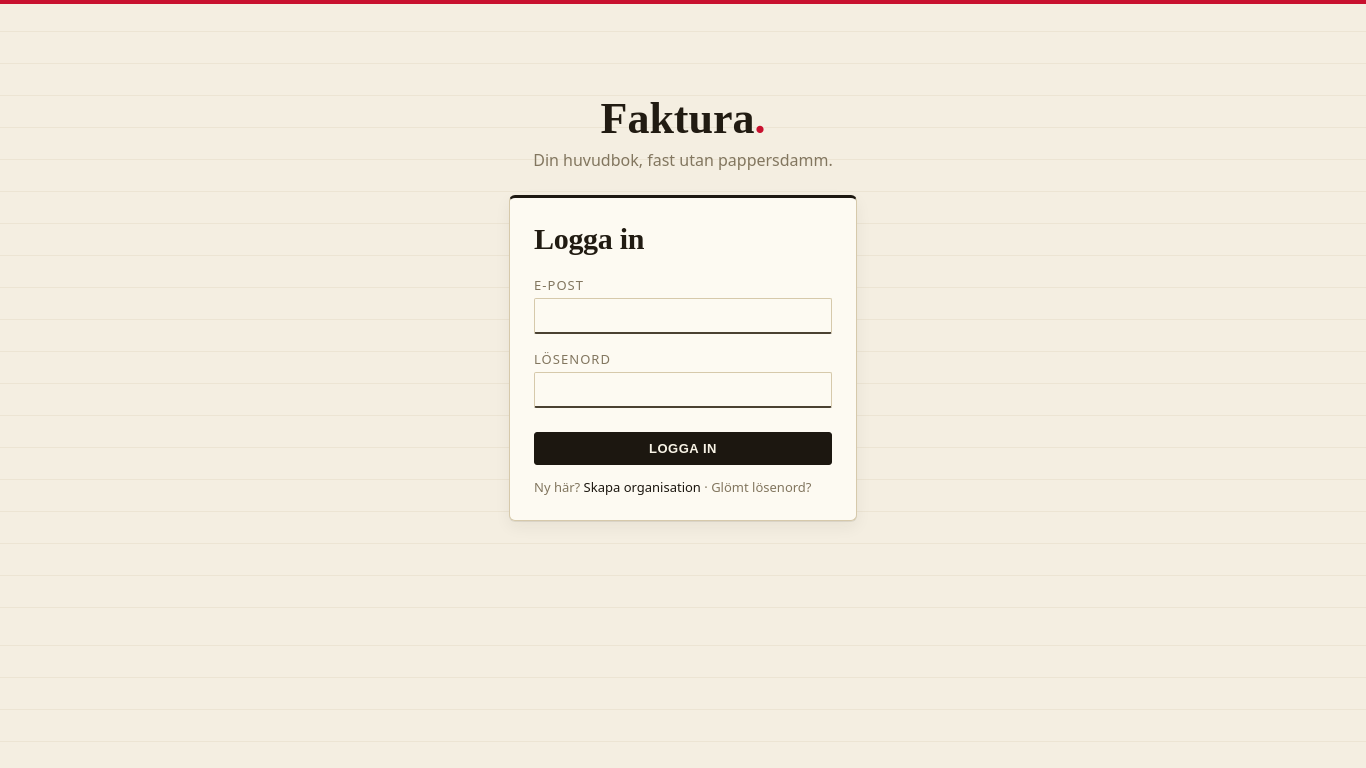
App auth-flöde › inloggning: formuläret loggar in och visar organisationens dashboard
Expected: the heading "Logga in" is shown, [534,222,644,255]
In the field labelled "E-post": (683, 316) [534,298,832,334], type "owner@acme.se"
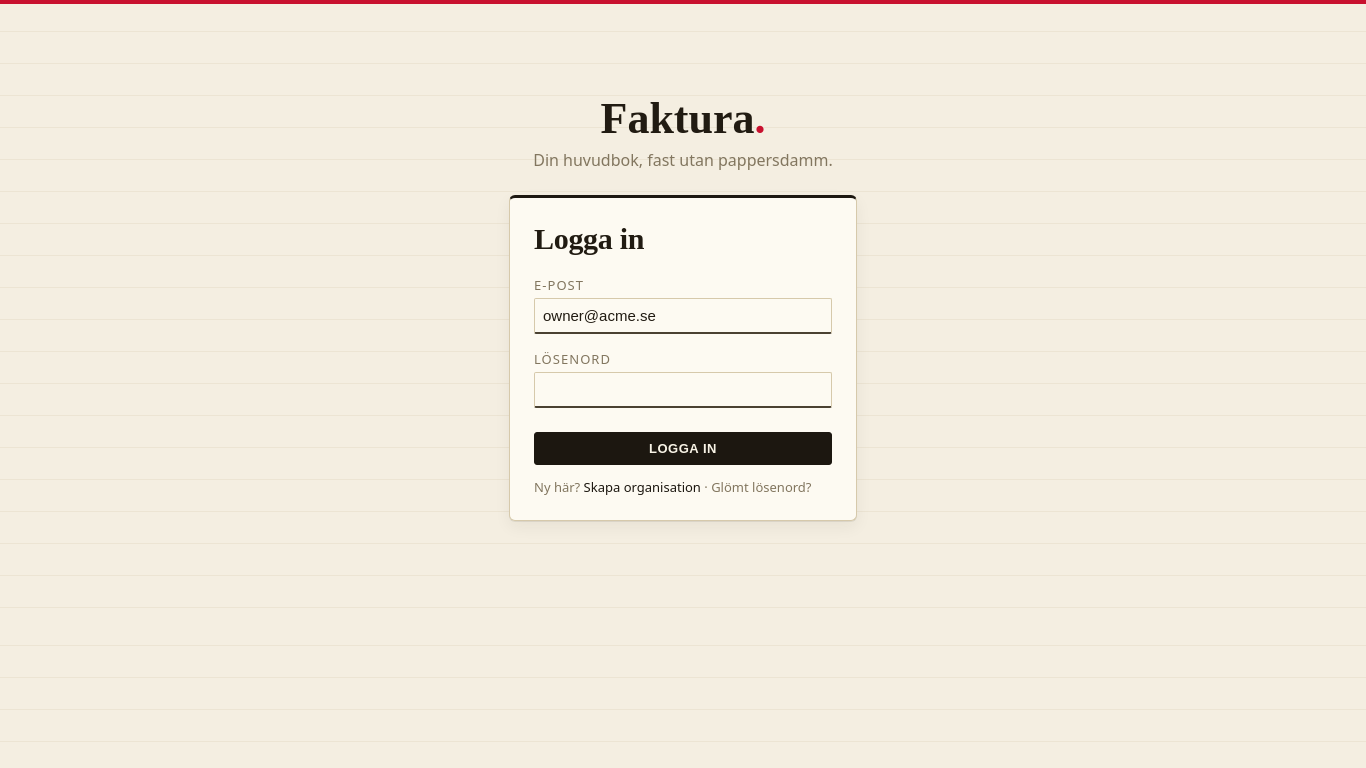
In the password field labelled "Lösenord": (683, 390) [534,372,832,408], type "password1"
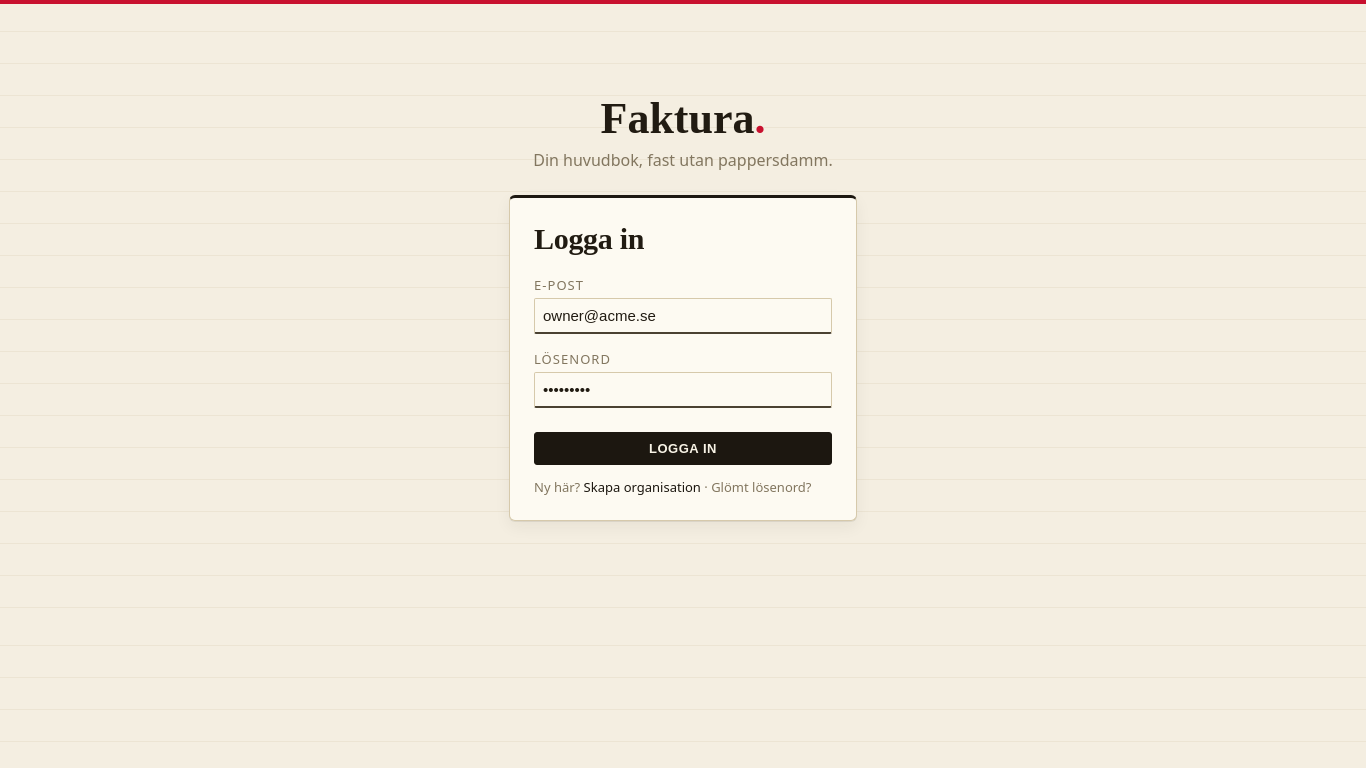
Submit the form, box [534,276,832,465]
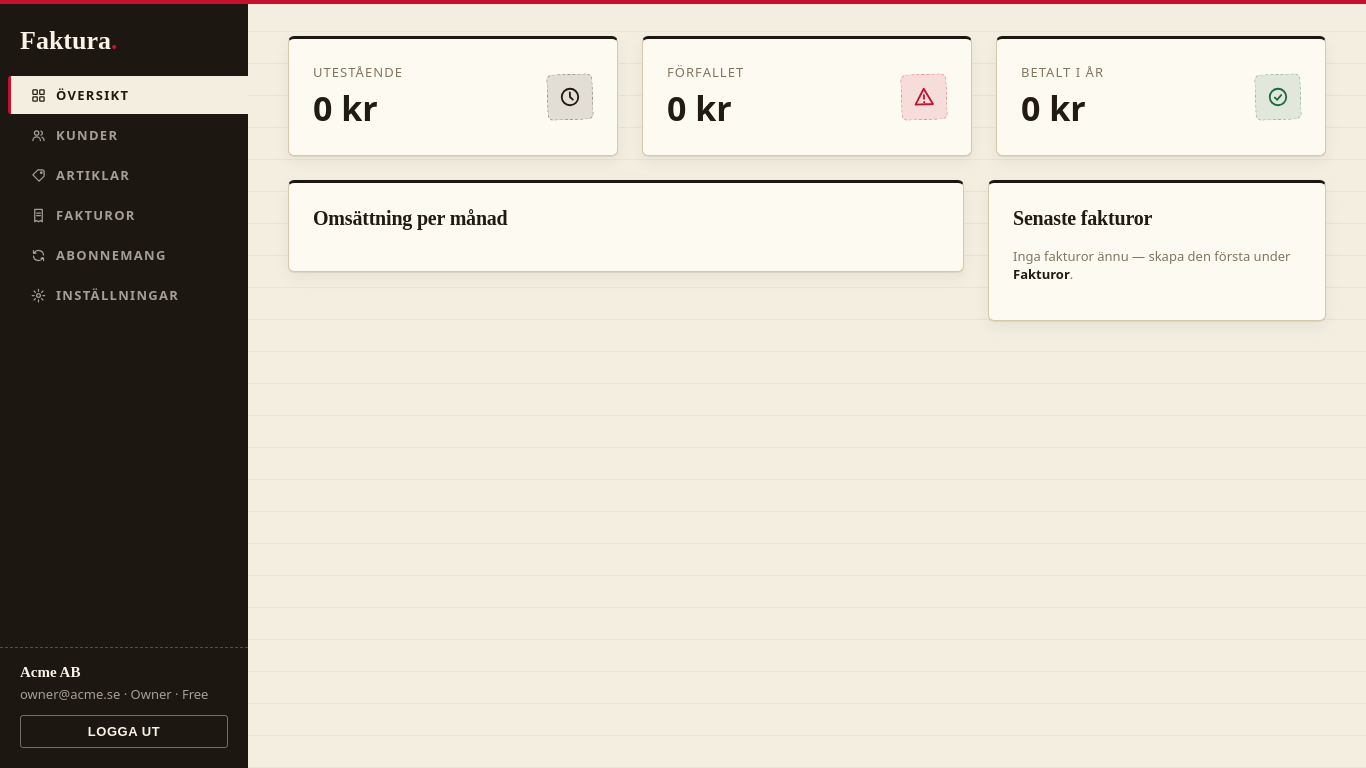
Expected: the text "Acme AB" is shown, [20,664,80,680]
